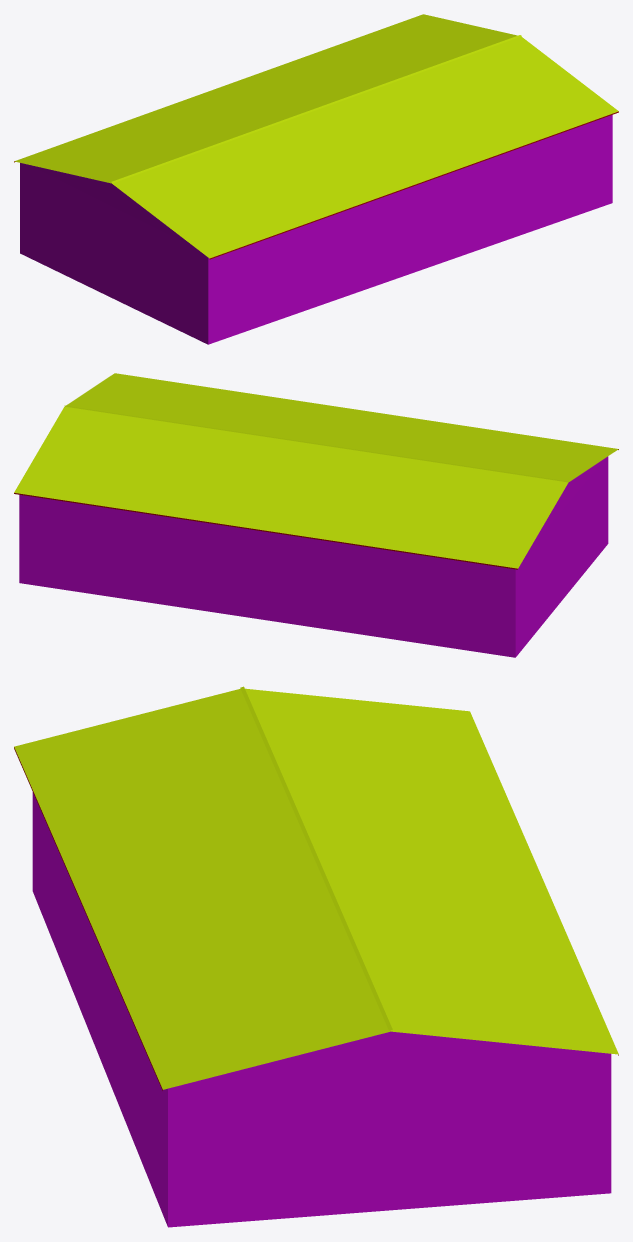
Rendered from bgj_207.glb.
3 renders of one model, top to bottom at view 1: azimuth 30°, elevation 25°; view 2: azimuth 150°, elevation 25°; view 3: azimuth 270°, elevation 25°, orthographic. The views are drawn at different scales.
Parts seen in each view (by area): view 1: bgj_207; view 2: bgj_207; view 3: bgj_207.
Part boxes in pixels (x1=…): bgj_207: x1=14, y1=14, x2=618, y2=344; bgj_207: x1=14, y1=373, x2=618, y2=657; bgj_207: x1=14, y1=686, x2=618, y2=1227.
Size of the model in its own units: 55.5 by 12.54 by 37.49.
